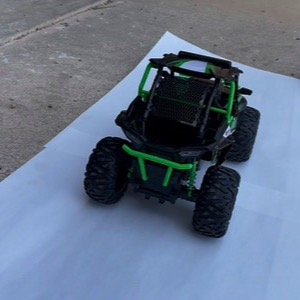polaris: (84, 50, 262, 239)
